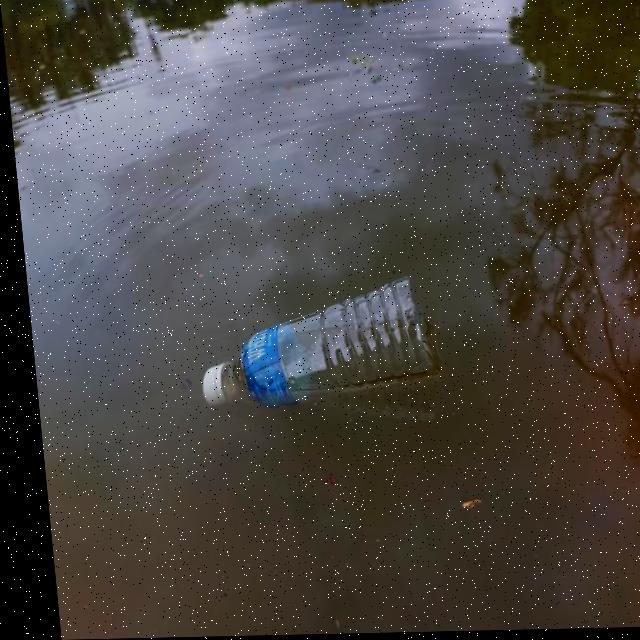waterbottle: (159, 278, 483, 472)
